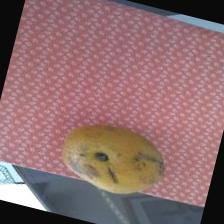Orange Rotten: (46, 108, 179, 214)
